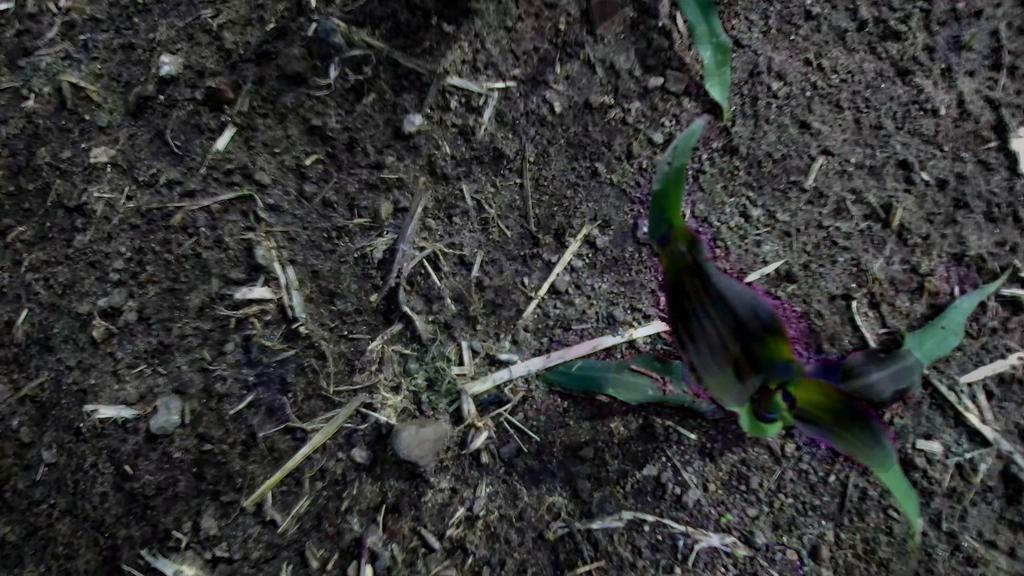BroWeed: (963, 27, 978, 49), (718, 511, 733, 524)
